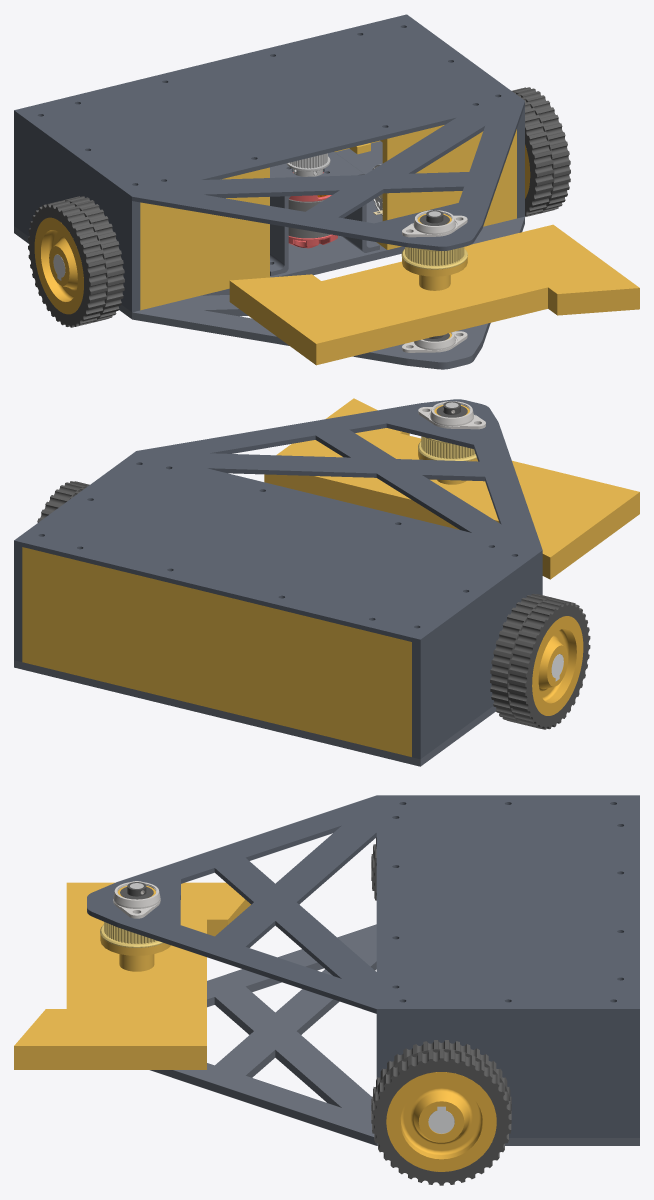
Rendered from Robot3.glb.
3 renders of one model, top to bottom at view 1: azimuth 30°, elevation 25°; view 2: azimuth 150°, elevation 25°; view 3: azimuth 270°, elevation 25°, orthographic. The views are drawn at different scales.
Visible parts, largest first — view 1: Armor_Top, Chassis, Weapon_Pivot, Wheel_L, Armor_Side_L, Wheel_R, Armor_Side_R; view 2: Armor_Top, Armor_Rear, Weapon_Pivot, Armor_Side_L, Wheel_L, Chassis, Armor_Side_R, Wheel_R; view 3: Armor_Top, Weapon_Pivot, Armor_Side_R, Chassis, Wheel_R.
Boxes of the visible parts, x1,y1,x2,y2 form: Armor_Top: [14, 14, 524, 250]; Chassis: [14, 125, 524, 369]; Weapon_Pivot: [229, 210, 639, 365]; Wheel_L: [28, 196, 124, 327]; Armor_Side_L: [14, 115, 140, 312]; Wheel_R: [512, 87, 570, 216]; Armor_Side_R: [517, 106, 524, 218]; Armor_Top: [14, 399, 542, 643]; Armor_Rear: [22, 547, 411, 756]; Weapon_Pivot: [264, 398, 639, 579]; Armor_Side_L: [412, 555, 542, 759]; Wheel_L: [490, 593, 590, 729]; Chassis: [14, 401, 563, 766]; Armor_Side_R: [14, 545, 22, 661]; Wheel_R: [37, 481, 89, 522]; Armor_Top: [87, 795, 639, 1013]; Weapon_Pivot: [14, 882, 250, 1069]; Armor_Side_R: [376, 1014, 639, 1137]; Chassis: [113, 881, 639, 1145]; Wheel_R: [371, 1040, 511, 1185].
Bounding box in the file's own units: 2.15 × 0.6448 × 2.17.
